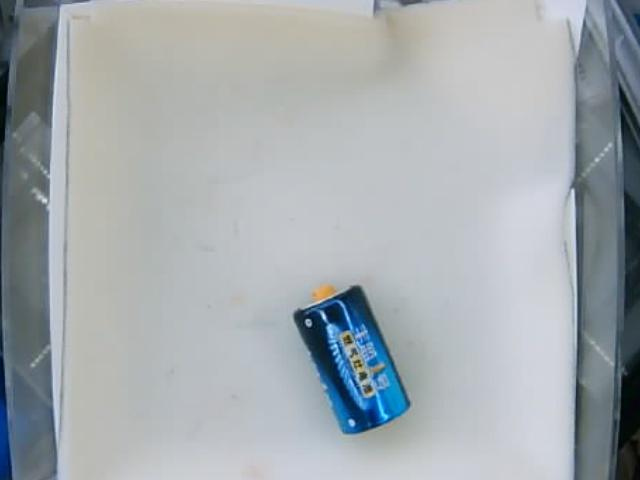Battery: (292, 285, 409, 435)
